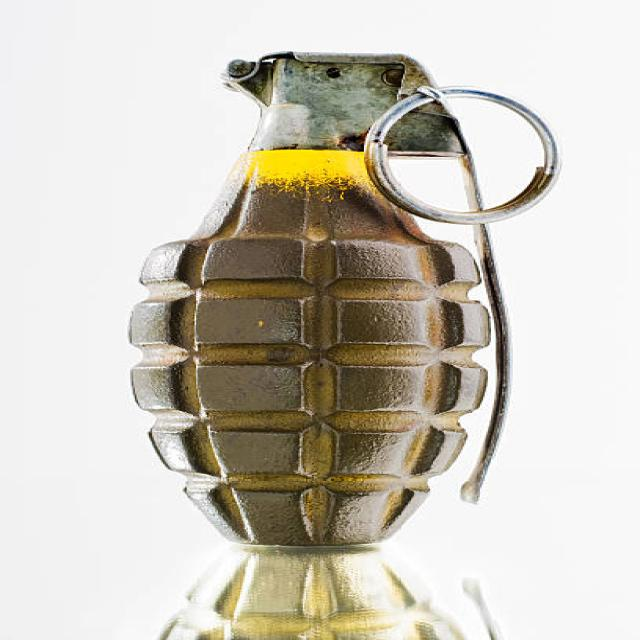grenade: (118, 47, 578, 553)
